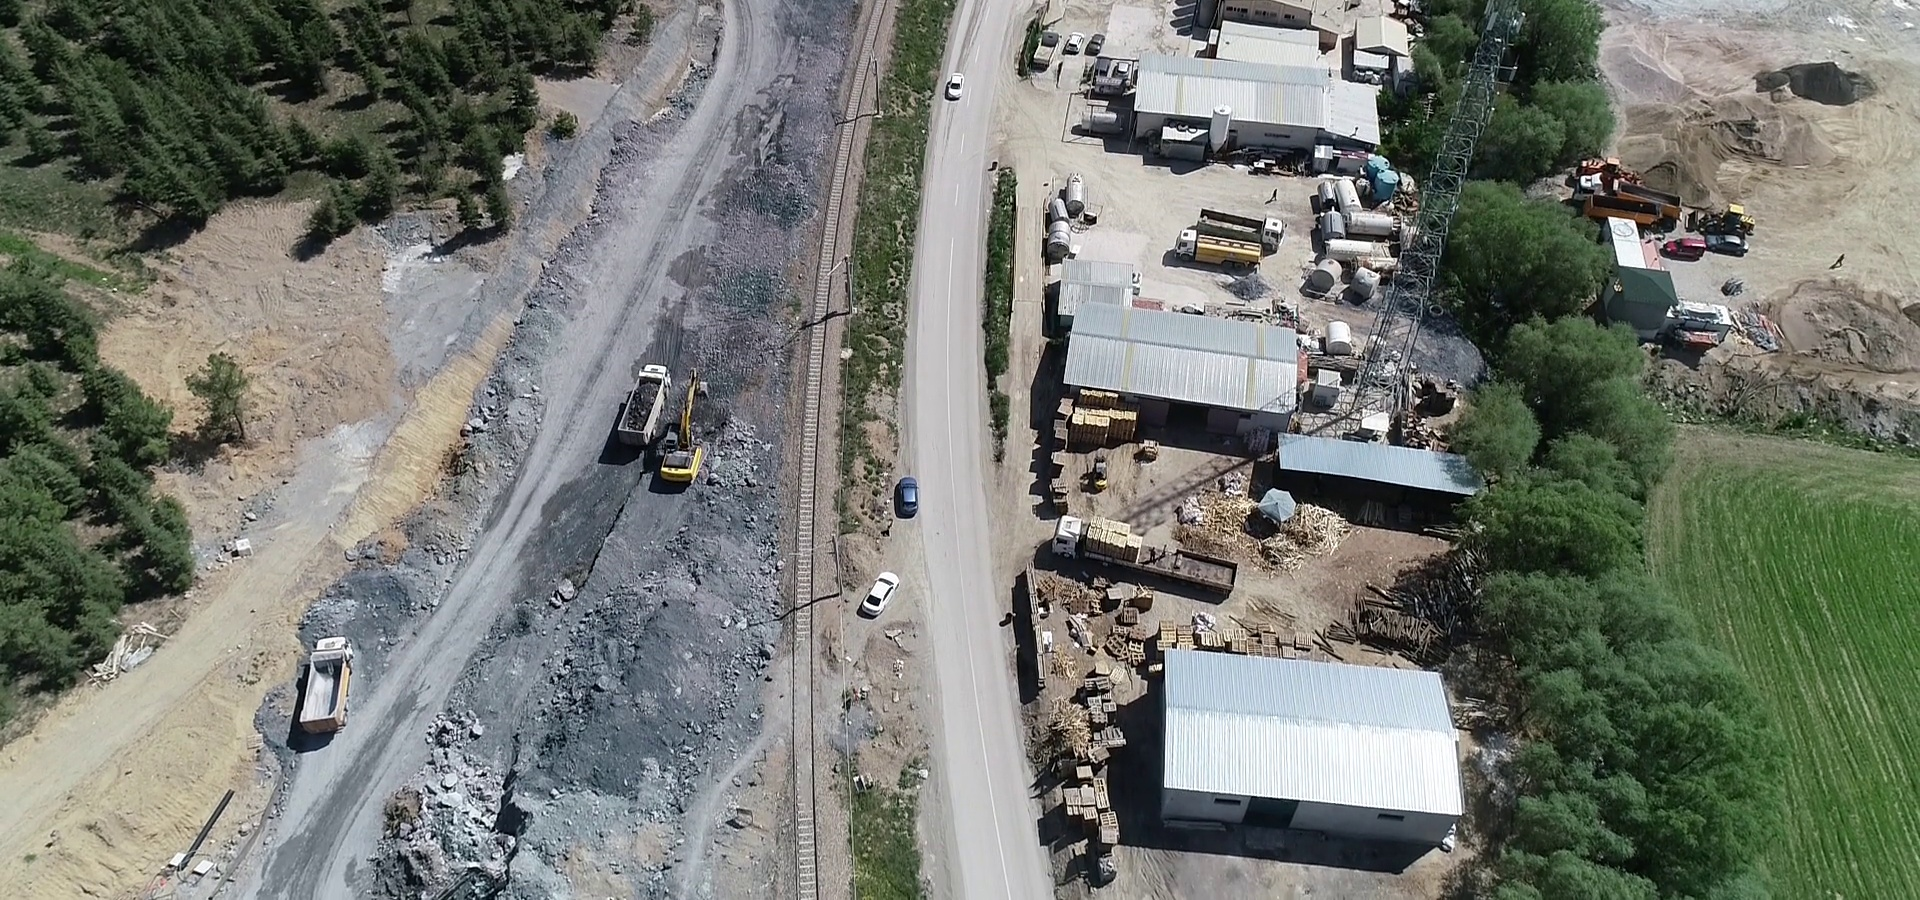arac: (1041, 504, 1247, 604), (655, 365, 722, 497), (285, 633, 358, 737), (598, 358, 675, 444), (1166, 229, 1278, 274), (1191, 204, 1291, 251), (851, 564, 912, 620), (1685, 197, 1767, 235), (1658, 228, 1725, 263), (889, 467, 928, 520), (1707, 222, 1757, 253), (1056, 20, 1091, 62), (1078, 26, 1114, 62), (940, 69, 969, 104)
